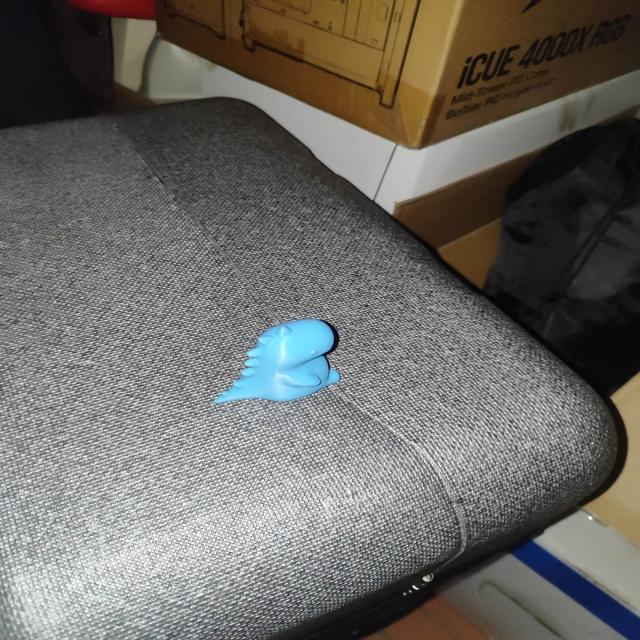DINO: (198, 312, 354, 404)
